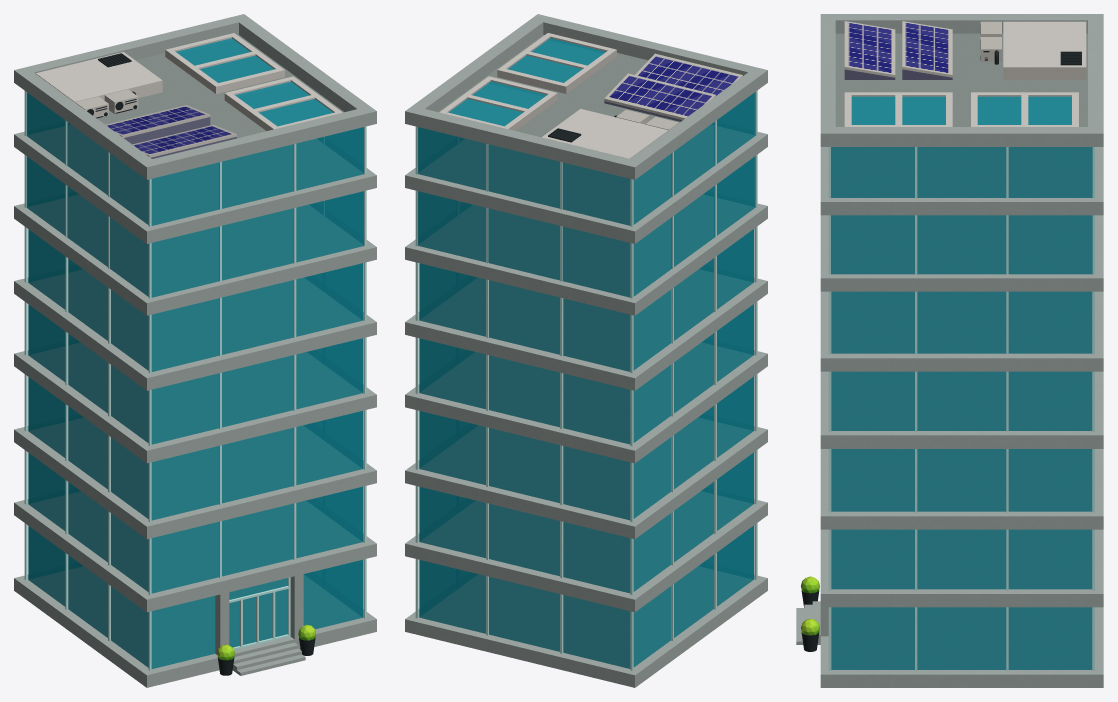
File: Office_lvl1_Higher.fbx
The picture shows the model from 3 angles, left to right: view 1: azimuth 30°, elevation 25°; view 2: azimuth 150°, elevation 25°; view 3: azimuth 270°, elevation 25°; orthographic projection. The views are drawn at different scales.
Visible parts, largest first — view 1: Office_lvl1_Higher; view 2: Office_lvl1_Higher; view 3: Office_lvl1_Higher.
Part boxes in pixels (x1,y1,x2,y2): Office_lvl1_Higher: (14,14,376,687); Office_lvl1_Higher: (405,14,767,687); Office_lvl1_Higher: (796,14,1103,687).
Size of the model in its own units: 956 by 2068 by 1037.
2 materials, 2 textured.
